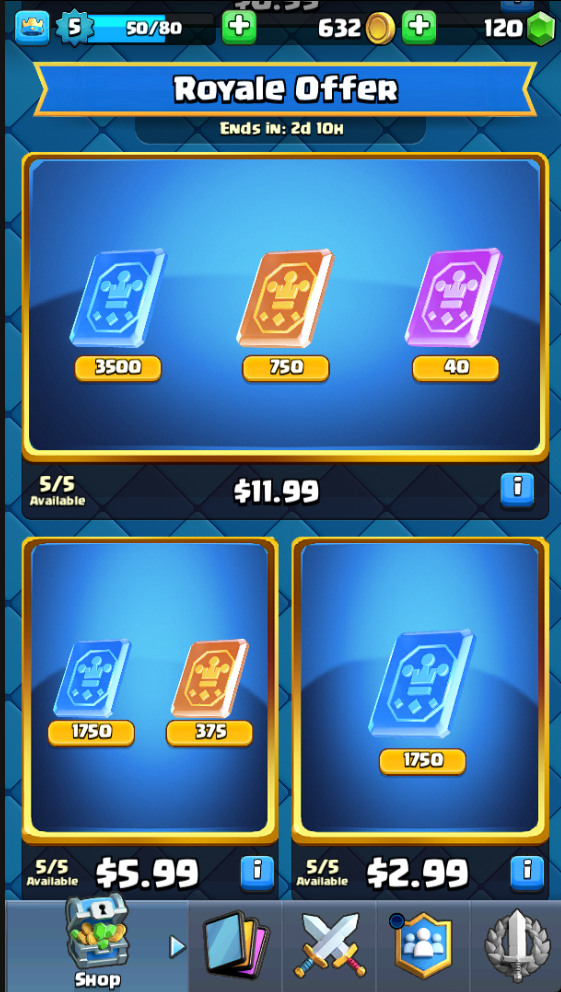badge: (369, 628, 473, 736), (70, 247, 166, 349), (405, 247, 500, 348), (55, 639, 130, 717), (501, 472, 534, 505)
button: (23, 155, 545, 458), (294, 536, 547, 843), (26, 537, 276, 844), (33, 58, 532, 120), (190, 464, 388, 523), (282, 898, 378, 991), (188, 898, 283, 990), (377, 898, 464, 984), (203, 115, 381, 148), (25, 471, 94, 518), (22, 848, 82, 899), (380, 746, 464, 777), (244, 354, 329, 383), (77, 354, 161, 383), (49, 718, 134, 746), (413, 354, 497, 382)
icon: (70, 247, 166, 349), (295, 909, 365, 983), (485, 909, 549, 985), (388, 906, 453, 980), (55, 9, 94, 44)
icon badge: (237, 247, 333, 349), (172, 638, 248, 721)
text: (174, 69, 393, 107), (366, 852, 468, 893), (97, 855, 198, 892), (219, 116, 342, 140), (233, 475, 320, 507), (28, 474, 85, 507), (297, 854, 349, 890), (25, 857, 79, 888), (232, 0, 327, 16), (74, 968, 122, 990), (30, 493, 86, 507), (27, 874, 78, 888), (297, 874, 348, 888)
unknown: (6, 897, 190, 992), (292, 839, 548, 905), (370, 629, 473, 738), (13, 4, 211, 52), (69, 843, 212, 898), (472, 899, 555, 991), (104, 463, 196, 521), (65, 891, 131, 970), (388, 464, 476, 521), (210, 914, 266, 980), (293, 844, 351, 898), (168, 718, 251, 746), (135, 116, 194, 146), (401, 8, 437, 45), (241, 855, 275, 894), (15, 9, 50, 46), (222, 9, 257, 45), (401, 9, 436, 44), (511, 855, 544, 891), (526, 8, 556, 47), (364, 11, 396, 46), (319, 15, 362, 40), (94, 356, 143, 377), (127, 18, 178, 38), (486, 16, 522, 39), (222, 118, 264, 137), (169, 934, 187, 960), (159, 19, 181, 36)
